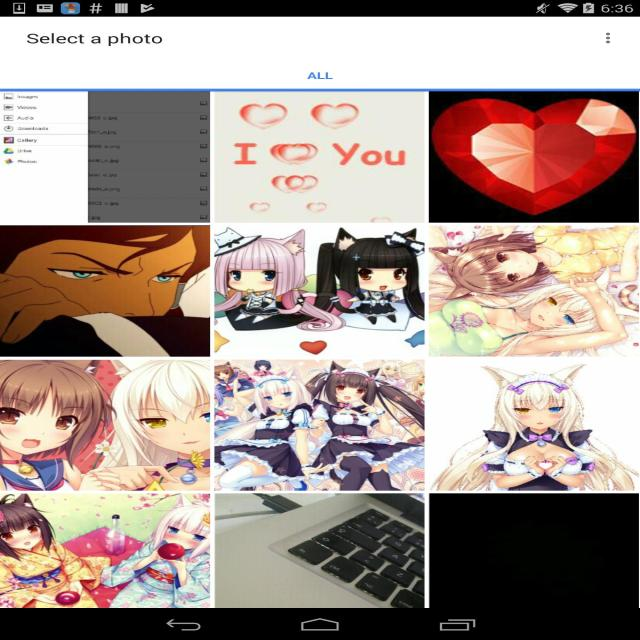button: (592, 27, 626, 49)
heading: (26, 28, 168, 48)
image: (0, 358, 640, 608), (212, 89, 427, 223), (428, 89, 640, 224), (212, 225, 425, 358), (2, 90, 212, 224), (426, 226, 640, 357), (0, 225, 210, 358)
label: (302, 68, 338, 87)
